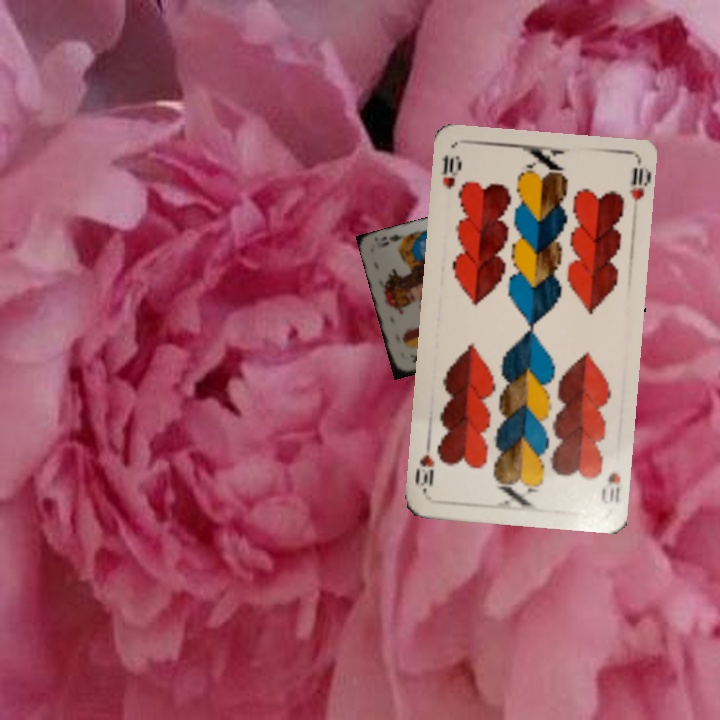H10: (438, 151, 464, 192), (597, 468, 624, 506)
